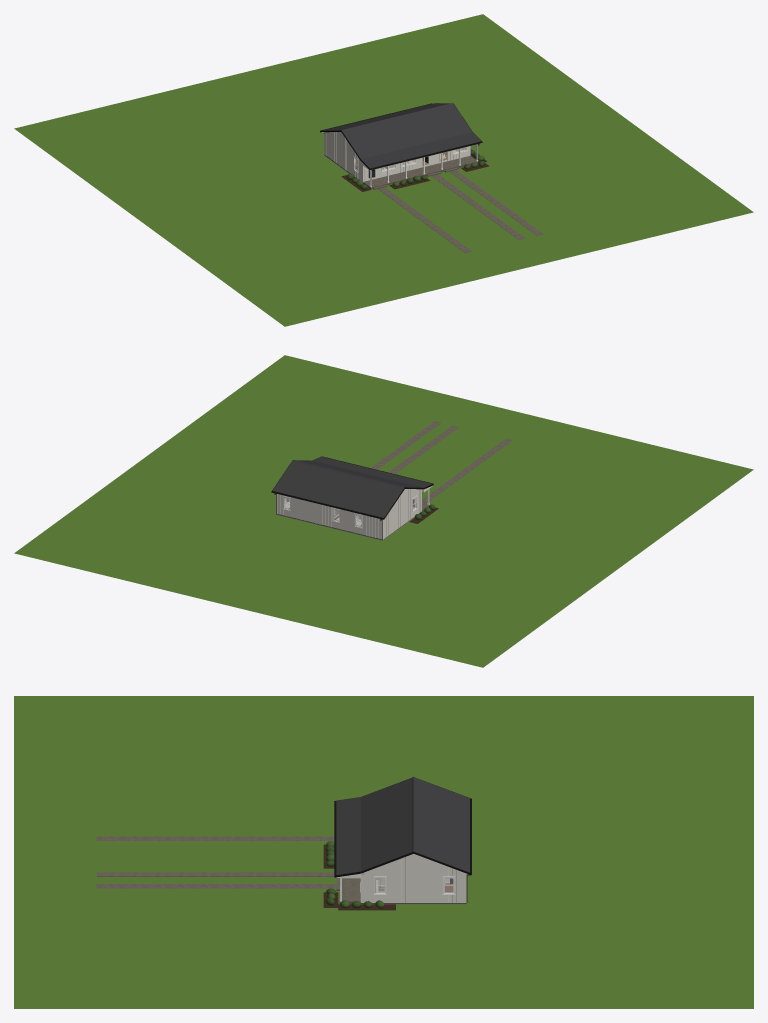
The model's file is house.glb.
The picture shows the model from 3 angles, top to bottom: view 1: azimuth 30°, elevation 25°; view 2: azimuth 150°, elevation 25°; view 3: azimuth 270°, elevation 25°; orthographic projection. The views are drawn at different scales.
Visible parts, largest first — view 1: LM_ground, LM_roof, LM_site, LM_walls; view 2: LM_ground, LM_roof, LM_walls, LM_site; view 3: LM_ground, LM_roof, LM_site, LM_walls.
Part boxes in pixels (x1,y1,x2,y2): LM_ground: [14, 14, 753, 326]; LM_roof: [320, 103, 482, 185]; LM_site: [324, 144, 543, 253]; LM_walls: [324, 132, 470, 182]; LM_ground: [14, 355, 753, 667]; LM_roof: [271, 456, 433, 539]; LM_walls: [275, 489, 421, 539]; LM_site: [276, 421, 512, 540]; LM_ground: [14, 696, 753, 1008]; LM_roof: [334, 776, 471, 902]; LM_site: [96, 836, 466, 910]; LM_walls: [360, 854, 466, 902].
Size of the model in its own units: 64 by 5.48 by 64.
Materials: 55 (11 with a texture image).
